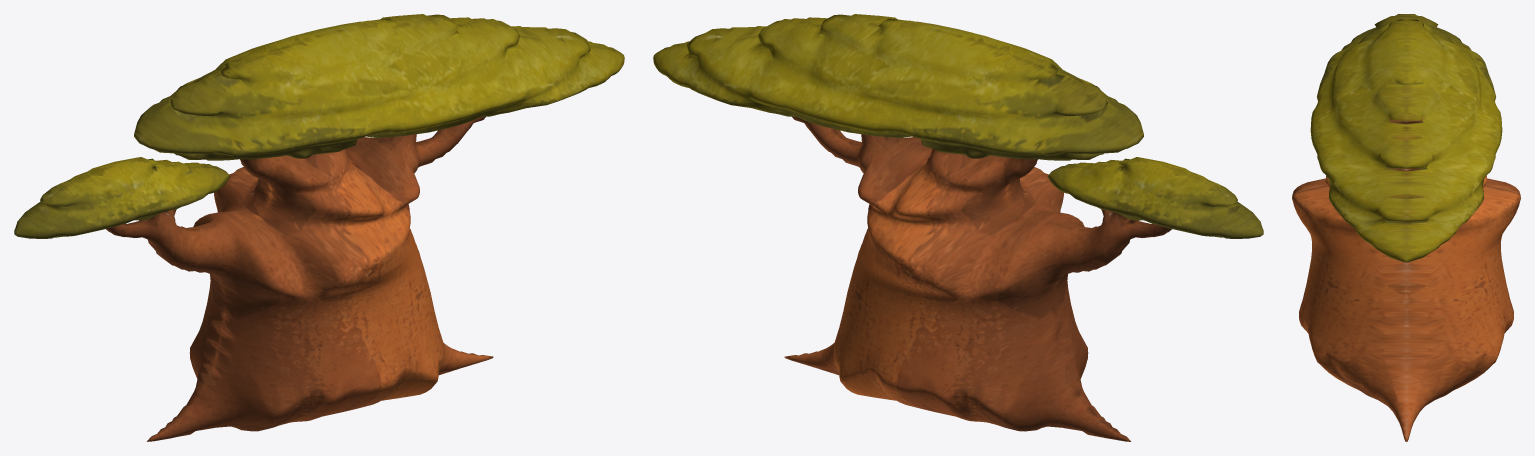
The model's file is 22_trees_a_r01_c00.glb.
3 views of the same model, side by side, from view 1: azimuth 30°, elevation 25°; view 2: azimuth 150°, elevation 25°; view 3: azimuth 270°, elevation 25° (orthographic). The views are drawn at different scales.
Visible parts, largest first — view 1: 22_trees_a_r01_c00; view 2: 22_trees_a_r01_c00; view 3: 22_trees_a_r01_c00.
Boxes of the visible parts, left/top/right/bottom form: 22_trees_a_r01_c00: left=14, top=14, right=624, bottom=441; 22_trees_a_r01_c00: left=653, top=14, right=1263, bottom=441; 22_trees_a_r01_c00: left=1292, top=14, right=1520, bottom=441.
Bounding box in the file's own units: 8.71 × 5.01 × 3.21.
Materials: 1 (1 with a texture image).
